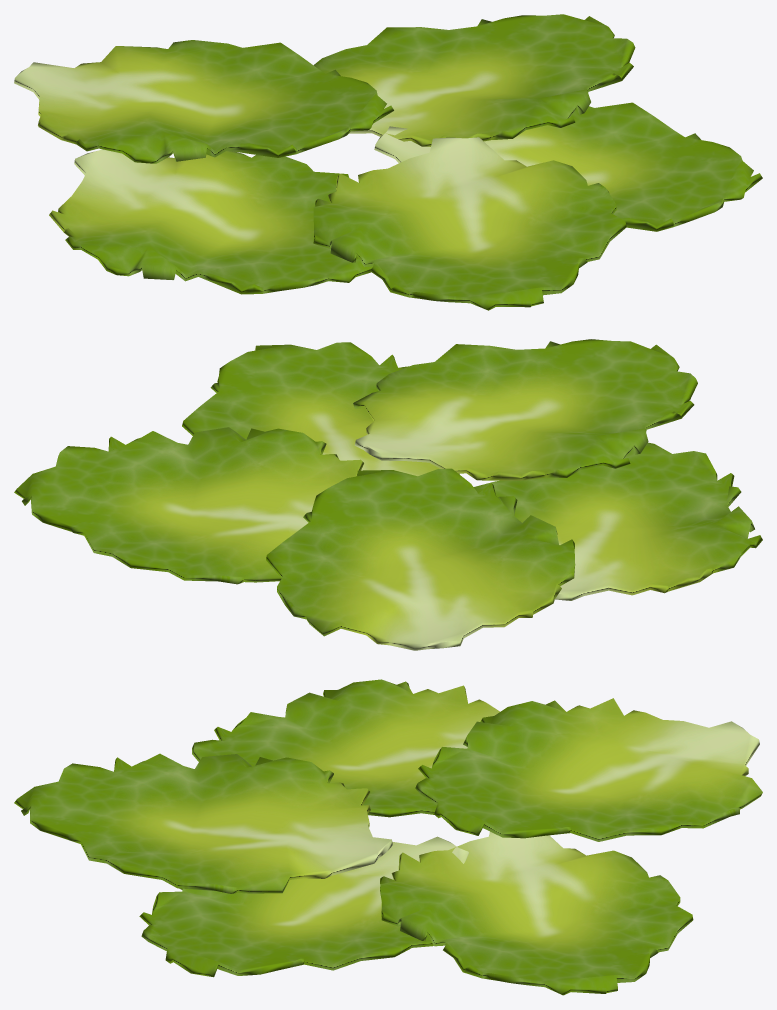
The model's file is CabbageSliced_Visual.glb.
3 views of the same model, one above another, from view 1: azimuth 30°, elevation 25°; view 2: azimuth 150°, elevation 25°; view 3: azimuth 270°, elevation 25° (orthographic).
Visible parts, largest first — view 1: Lattuce slice_shaped, Lattuce slice_shaped (4), Lattuce slice_shaped (2), Lattuce slice_shaped (3), Lattuce slice_shaped (1); view 2: Lattuce slice_shaped (4), Lattuce slice_shaped, Lattuce slice_shaped (3), Lattuce slice_shaped (2), Lattuce slice_shaped (1); view 3: Lattuce slice_shaped, Lattuce slice_shaped (4), Lattuce slice_shaped (3), Lattuce slice_shaped (1), Lattuce slice_shaped (2).
Part boxes in pixels (box(x1,y1,x2,y2)): Lattuce slice_shaped: box(313, 137, 626, 310); Lattuce slice_shaped (4): box(14, 40, 393, 163); Lattuce slice_shaped (2): box(49, 149, 372, 294); Lattuce slice_shaped (3): box(313, 14, 635, 146); Lattuce slice_shaped (1): box(374, 102, 762, 231); Lattuce slice_shaped (4): box(266, 468, 575, 650); Lattuce slice_shaped: box(353, 339, 697, 480); Lattuce slice_shaped (3): box(14, 427, 363, 584); Lattuce slice_shaped (2): box(474, 442, 762, 600); Lattuce slice_shaped (1): box(182, 342, 459, 476); Lattuce slice_shaped: box(14, 753, 392, 893); Lattuce slice_shaped (4): box(415, 698, 762, 841); Lattuce slice_shaped (3): box(380, 831, 693, 995); Lattuce slice_shaped (1): box(139, 836, 468, 977); Lattuce slice_shaped (2): box(192, 679, 499, 817).
Size of the model in its own units: 0.7006 by 0.0584 by 0.7255.
1 material, 1 textured.
